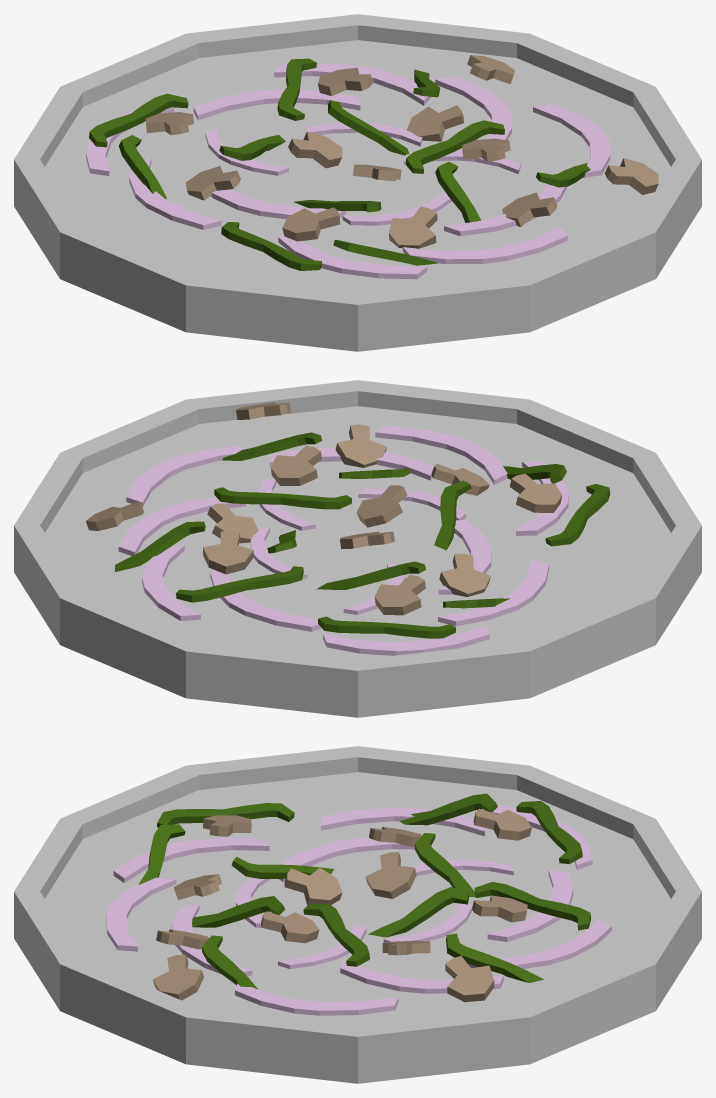
Rendered from CookedVegNOnion.fbx.
The picture shows the model from 3 angles, top to bottom: view 1: azimuth 30°, elevation 25°; view 2: azimuth 150°, elevation 25°; view 3: azimuth 270°, elevation 25°; orthographic projection.
Visible parts, largest first — view 1: PizzaBase, VeggiesCut.004, Onions; view 2: PizzaBase, VeggiesCut.004, Onions; view 3: PizzaBase, VeggiesCut.004, Onions.
Part boxes in pixels (x1,y1,x2,y2): PizzaBase: (14, 14, 701, 351); VeggiesCut.004: (89, 55, 658, 270); Onions: (86, 63, 610, 279); PizzaBase: (14, 380, 701, 717); VeggiesCut.004: (86, 402, 610, 638); Onions: (118, 425, 568, 655); PizzaBase: (14, 746, 701, 1083); VeggiesCut.004: (139, 793, 590, 1002); Onions: (106, 804, 611, 1015).
Bounding box in the file's own units: 200 × 21.9 × 200.
